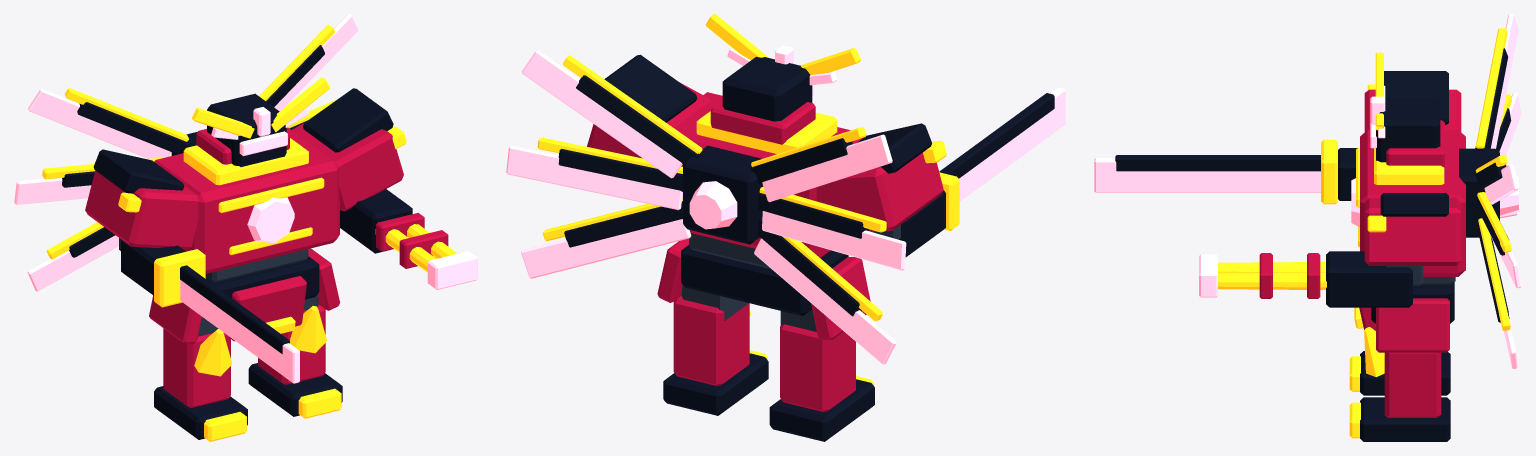
File: boss_titan.glb
3 renders of one model, left to right at view 1: azimuth 30°, elevation 25°; view 2: azimuth 150°, elevation 25°; view 3: azimuth 270°, elevation 25°, orthographic. The views are drawn at different scales.
Parts seen in each view (by area): view 1: ChestBlock, PauldronMain_-1, PauldronMain_1, Shin_-1, PauldronUpper_1, SwordBlade, WFeather_L_0, SkirtFront, PauldronUpper_-1, CollarGold, HeadHelm, RArmHousing (+36 smaller); view 2: Shin_1, Shin_-1, PauldronMain_-1, Pelvis, WingHub, HeadHelm, WFeather_R_0, WFeather_R_1, WFeather_R_2, WFeather_L_2, WFeather_L_1, WFeather_L_0 (+31 smaller); view 3: SwordBlade, PauldronMain_1, RArmHousing, Shin_1, ChestBlock, SkirtSide_1, SwordSpine, HeadHelm, Foot_1, PauldronUpper_-1, WingHub, PauldronUpper_1 (+23 smaller).
Boxes of the visible parts, left/top/right/bottom form: ChestBlock: left=154, top=127, right=339, bottom=273; PauldronMain_-1: left=85, top=171, right=198, bottom=249; PauldronMain_1: left=292, top=123, right=403, bottom=211; Shin_-1: left=163, top=328, right=230, bottom=407; PauldronUpper_1: left=303, top=88, right=393, bottom=152; SwordBlade: left=180, top=280, right=299, bottom=383; WFeather_L_0: left=28, top=89, right=170, bottom=158; SkirtFront: left=229, top=276, right=306, bottom=341; PauldronUpper_-1: left=93, top=149, right=184, bottom=193; CollarGold: left=183, top=138, right=308, bottom=185; HeadHelm: left=207, top=93, right=286, bottom=166; RArmHousing: left=340, top=189, right=412, bottom=253; Shin_1: left=673, top=296, right=749, bottom=386; Shin_-1: left=780, top=324, right=855, bottom=411; PauldronMain_-1: left=816, top=152, right=943, bottom=231; Pelvis: left=681, top=245, right=848, bottom=316; WingHub: left=683, top=145, right=763, bottom=244; HeadHelm: left=722, top=56, right=812, bottom=121; WFeather_R_0: left=521, top=50, right=682, bottom=178; WFeather_R_1: left=506, top=145, right=682, bottom=210; WFeather_R_2: left=521, top=219, right=691, bottom=278; WFeather_L_2: left=754, top=238, right=896, bottom=364; WFeather_L_1: left=762, top=211, right=906, bottom=270; WFeather_L_0: left=762, top=134, right=892, bottom=202; SwordBlade: left=1094, top=158, right=1320, bottom=192; PauldronMain_1: left=1364, top=198, right=1461, bottom=265; RArmHousing: left=1326, top=251, right=1412, bottom=307; Shin_1: left=1384, top=352, right=1441, bottom=417; ChestBlock: left=1360, top=130, right=1465, bottom=276; SkirtSide_1: left=1376, top=298, right=1449, bottom=352; SwordSpine: left=1115, top=155, right=1320, bottom=171; HeadHelm: left=1376, top=98, right=1440, bottom=162; Foot_1: left=1360, top=397, right=1450, bottom=441; PauldronUpper_-1: left=1384, top=71, right=1448, bottom=124; WingHub: left=1459, top=148, right=1499, bottom=237; PauldronUpper_1: left=1380, top=193, right=1448, bottom=216.
Bounding box in the file's own units: 4.34 × 3.78 × 4.51.
